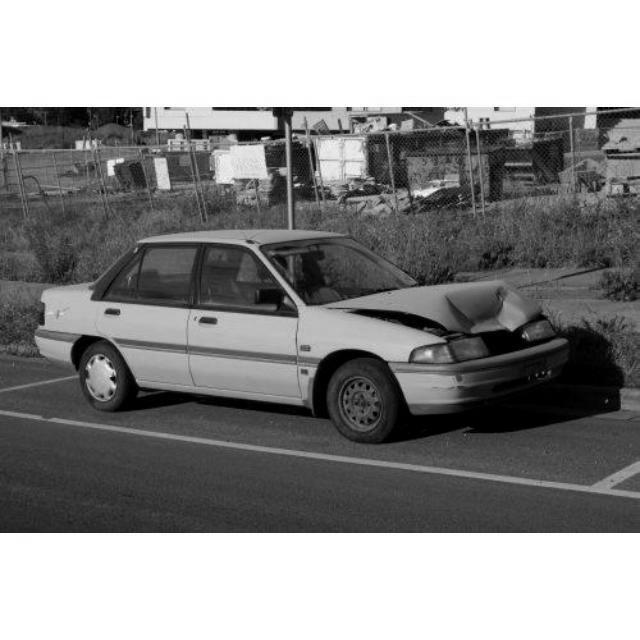bonnet-dent: (374, 279, 550, 334)
